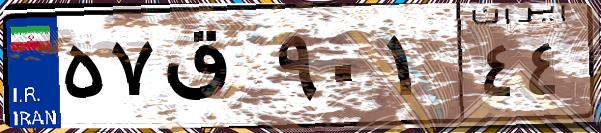0: (330, 28, 385, 110)
1: (385, 28, 445, 110)
4: (475, 38, 525, 113), (525, 38, 570, 115)
5: (57, 26, 110, 100)
7: (110, 28, 158, 98)
9: (270, 28, 330, 110)
ق: (158, 20, 270, 120)
